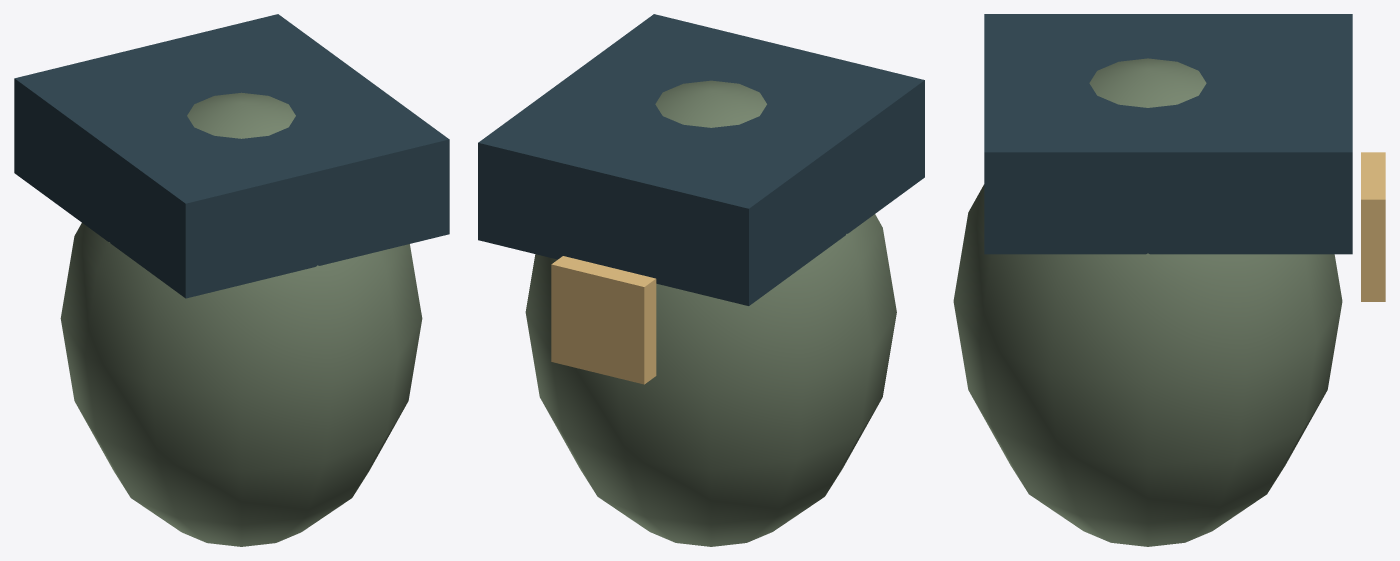
Rendered from grenade.glb.
3 views of the same model, side by side, from view 1: azimuth 30°, elevation 25°; view 2: azimuth 150°, elevation 25°; view 3: azimuth 270°, elevation 25° (orthographic). The views are drawn at different scales.
Parts seen in each view (by area): view 1: grenade; view 2: grenade; view 3: grenade.
Boxes of the visible parts, box(x1,y1,x2,y2) form: grenade: box(14, 14, 449, 546); grenade: box(478, 14, 924, 546); grenade: box(953, 14, 1385, 546).
Size of the model in its own units: 0.19 by 0.25 by 0.211.
